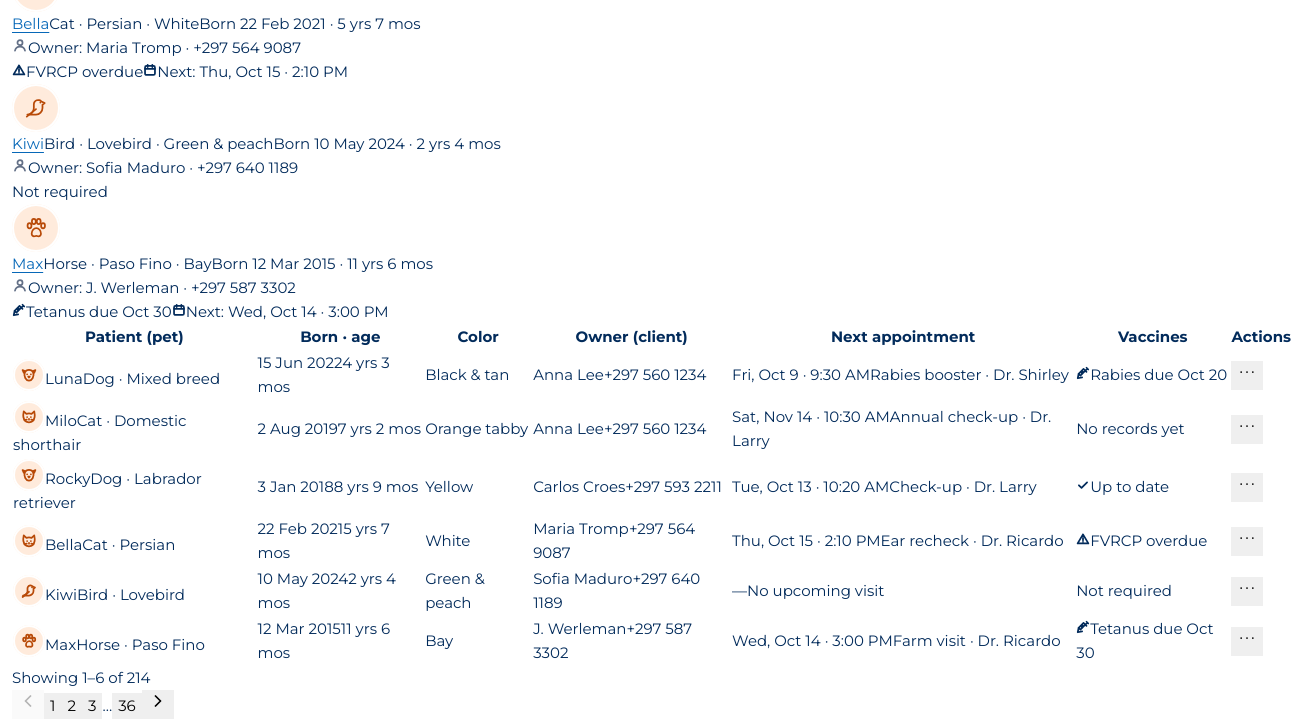
StaffPatients › opens the menu of a row with its actions
This screenshot has width=1304, height=719.
(page scrolled)
Click the button named "Actions for Luna": (1247, 375) [1231,360,1263,390]
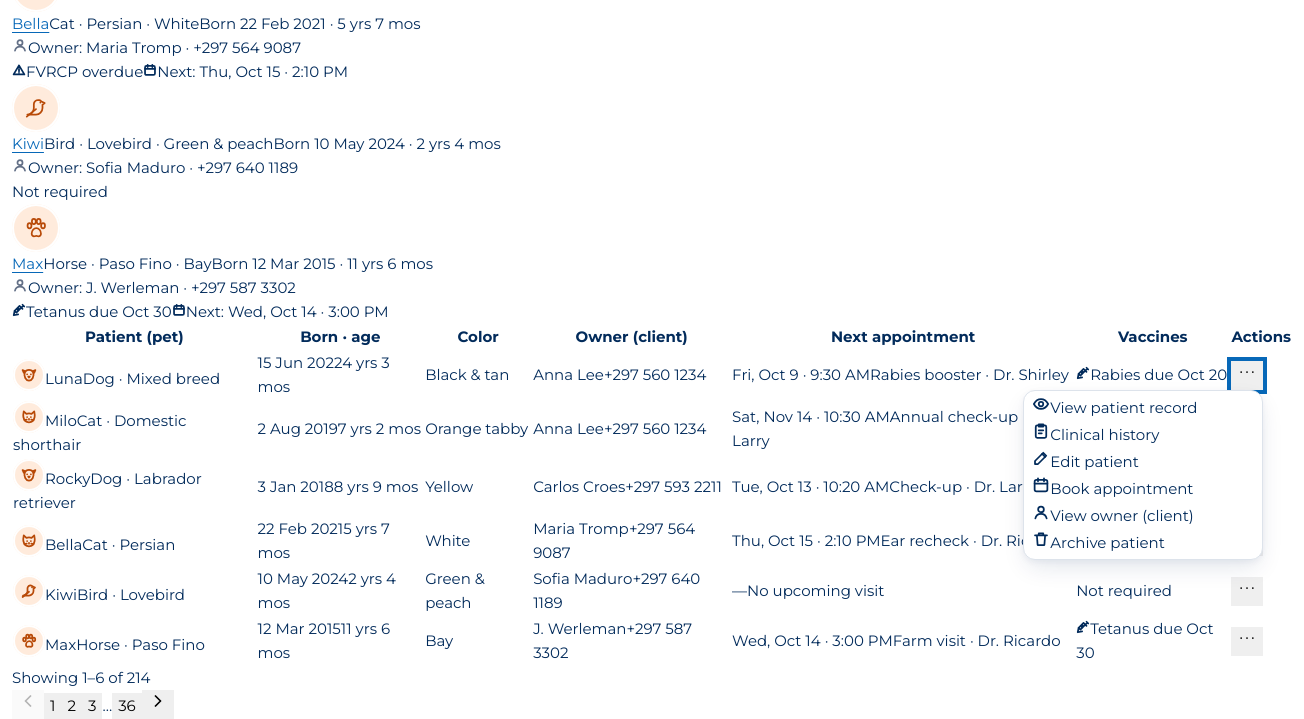
Now the menu item "Archive patient" is shown, box [1032,530,1254,554]
